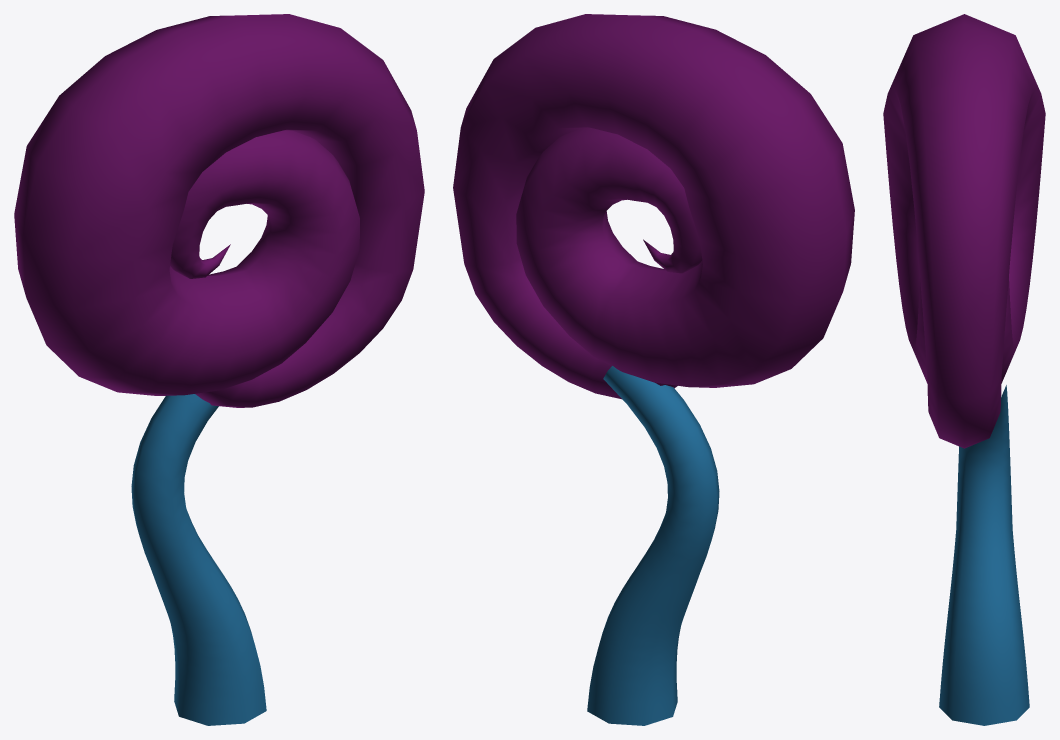
File: Tree Swirl.glb
3 views of the same model, side by side, from view 1: azimuth 30°, elevation 25°; view 2: azimuth 150°, elevation 25°; view 3: azimuth 270°, elevation 25° (orthographic). The views are drawn at different scales.
Parts seen in each view (by area): view 1: Tree_Swirl_2; view 2: Tree_Swirl_2; view 3: Tree_Swirl_2.
Part boxes in pixels (x1,y1,x2,y2): Tree_Swirl_2: (14, 14, 424, 725); Tree_Swirl_2: (453, 14, 854, 725); Tree_Swirl_2: (883, 14, 1045, 725).
Size of the model in its own units: 3.07 by 5.15 by 1.15.
1 material, 1 textured.
